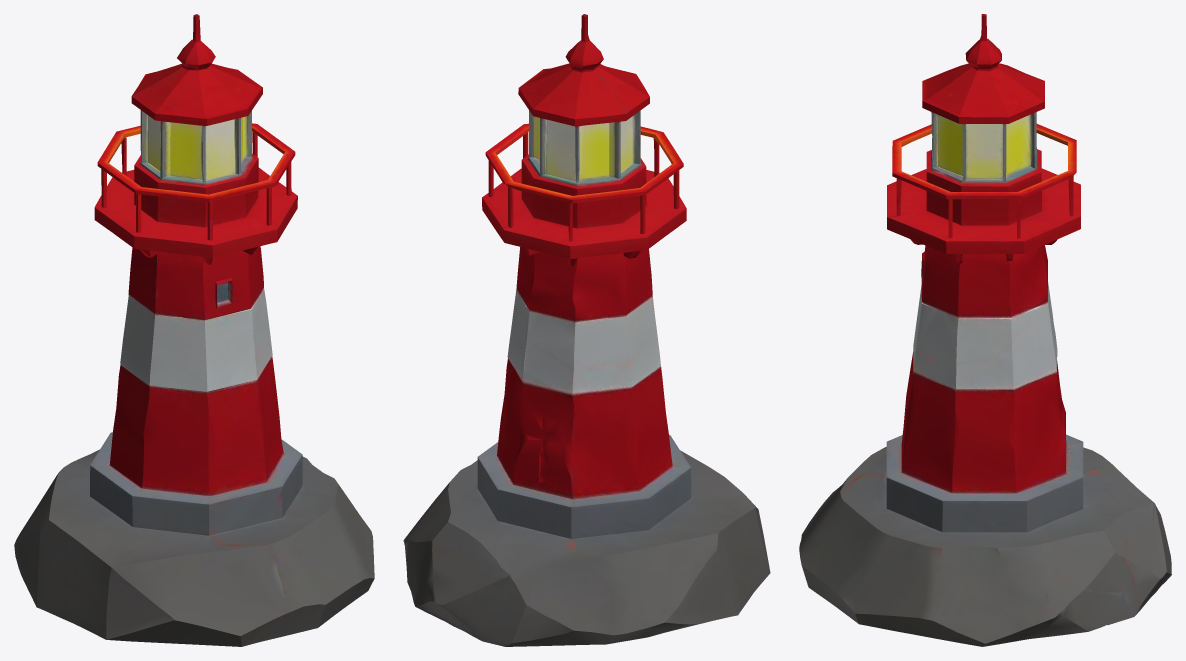
Rendered from lighthouse.glb.
3 renders of one model, left to right at view 1: azimuth 30°, elevation 25°; view 2: azimuth 150°, elevation 25°; view 3: azimuth 270°, elevation 25°, orthographic.
Visible parts, largest first — view 1: model; view 2: model; view 3: model.
Boxes of the visible parts, x1,y1,x2,y2 form: model: [14, 14, 374, 646]; model: [403, 14, 770, 646]; model: [799, 14, 1171, 646].
Bounding box in the file's own units: 1.12 × 1.9 × 1.15.
Materials: 1 (1 with a texture image).
